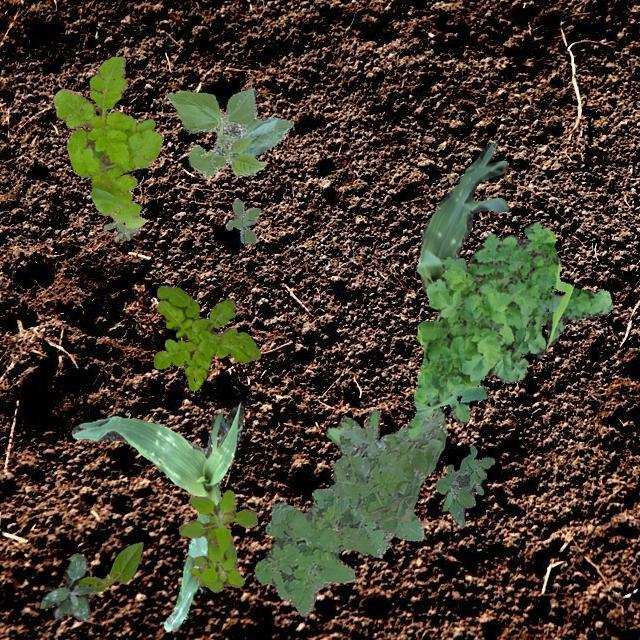crop: (70, 403, 244, 630), (416, 144, 562, 314), (165, 88, 292, 178), (76, 540, 142, 594)
weed: (406, 222, 612, 438), (254, 407, 446, 616), (52, 56, 162, 228), (153, 284, 260, 390), (178, 488, 256, 592), (434, 444, 494, 526), (40, 552, 94, 620), (324, 408, 378, 450), (224, 198, 260, 242), (102, 220, 138, 240)
